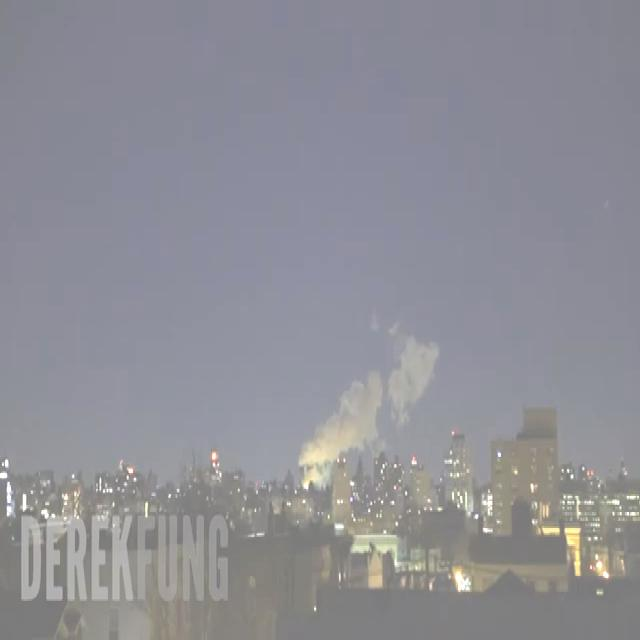smoke: (299, 329, 438, 466)
